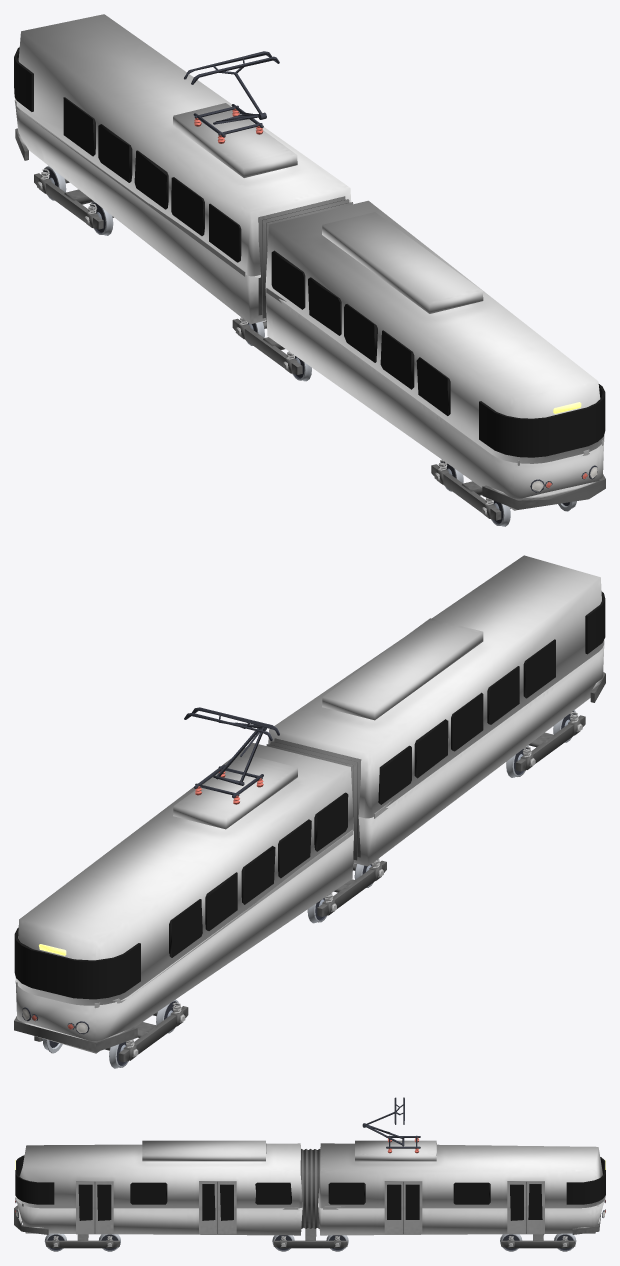
File: tram-colored.glb
3 views of the same model, one above another, from view 1: azimuth 30°, elevation 25°; view 2: azimuth 150°, elevation 25°; view 3: azimuth 270°, elevation 25° (orthographic). The views are drawn at different scales.
Parts seen in each view (by area): view 1: tram_body, tram_rear_windows, tram_front_windows, tram_pantograph_arms, tram_pantograph_base; view 2: tram_body, tram_front_windows, tram_rear_windows, tram_pantograph_arms, tram_pantograph_base; view 3: tram_body, tram_rear_windows, tram_front_windows, tram_pantograph_arms, tram_pantograph_base.
Boxes of the visible parts, x1,y1,x2,y2 form: tram_body: (14, 14, 605, 520); tram_rear_windows: (271, 250, 605, 457); tram_front_windows: (14, 47, 241, 262); tram_pantograph_arms: (184, 51, 279, 124); tram_pantograph_base: (193, 104, 263, 143); tram_body: (14, 555, 605, 1062); tram_front_windows: (14, 792, 348, 999); tram_rear_windows: (378, 591, 605, 804); tram_pantograph_arms: (184, 707, 279, 785); tram_pantograph_base: (194, 764, 263, 804); tram_body: (14, 1140, 605, 1248); tram_rear_windows: (15, 1155, 291, 1220); tram_front_windows: (328, 1157, 605, 1220); tram_pantograph_arms: (362, 1097, 404, 1146); tram_pantograph_base: (386, 1135, 420, 1153).
Bounding box in the file's own units: 2.48 × 4.96 × 19.77.
9 materials, 1 textured.
